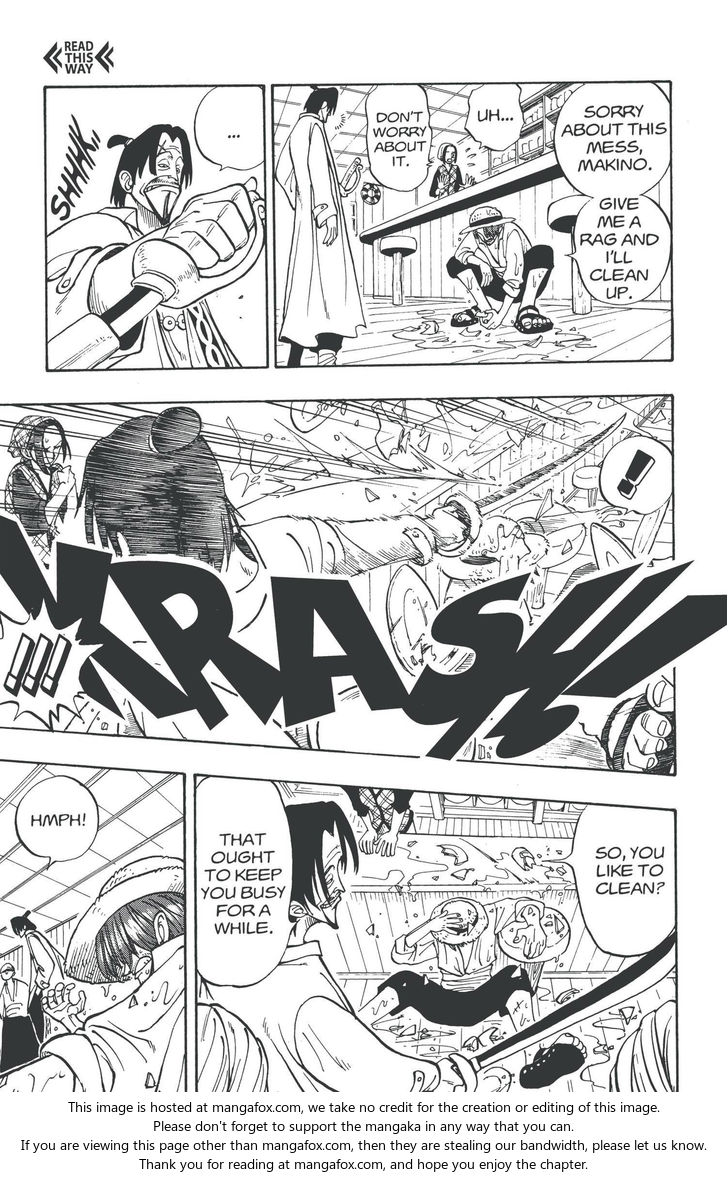bubble: (195, 776, 300, 986), (544, 803, 676, 956), (0, 597, 107, 733), (553, 81, 672, 198), (567, 195, 672, 305), (15, 776, 99, 869), (365, 84, 432, 191), (194, 86, 264, 171), (599, 437, 673, 516), (464, 83, 525, 151)
